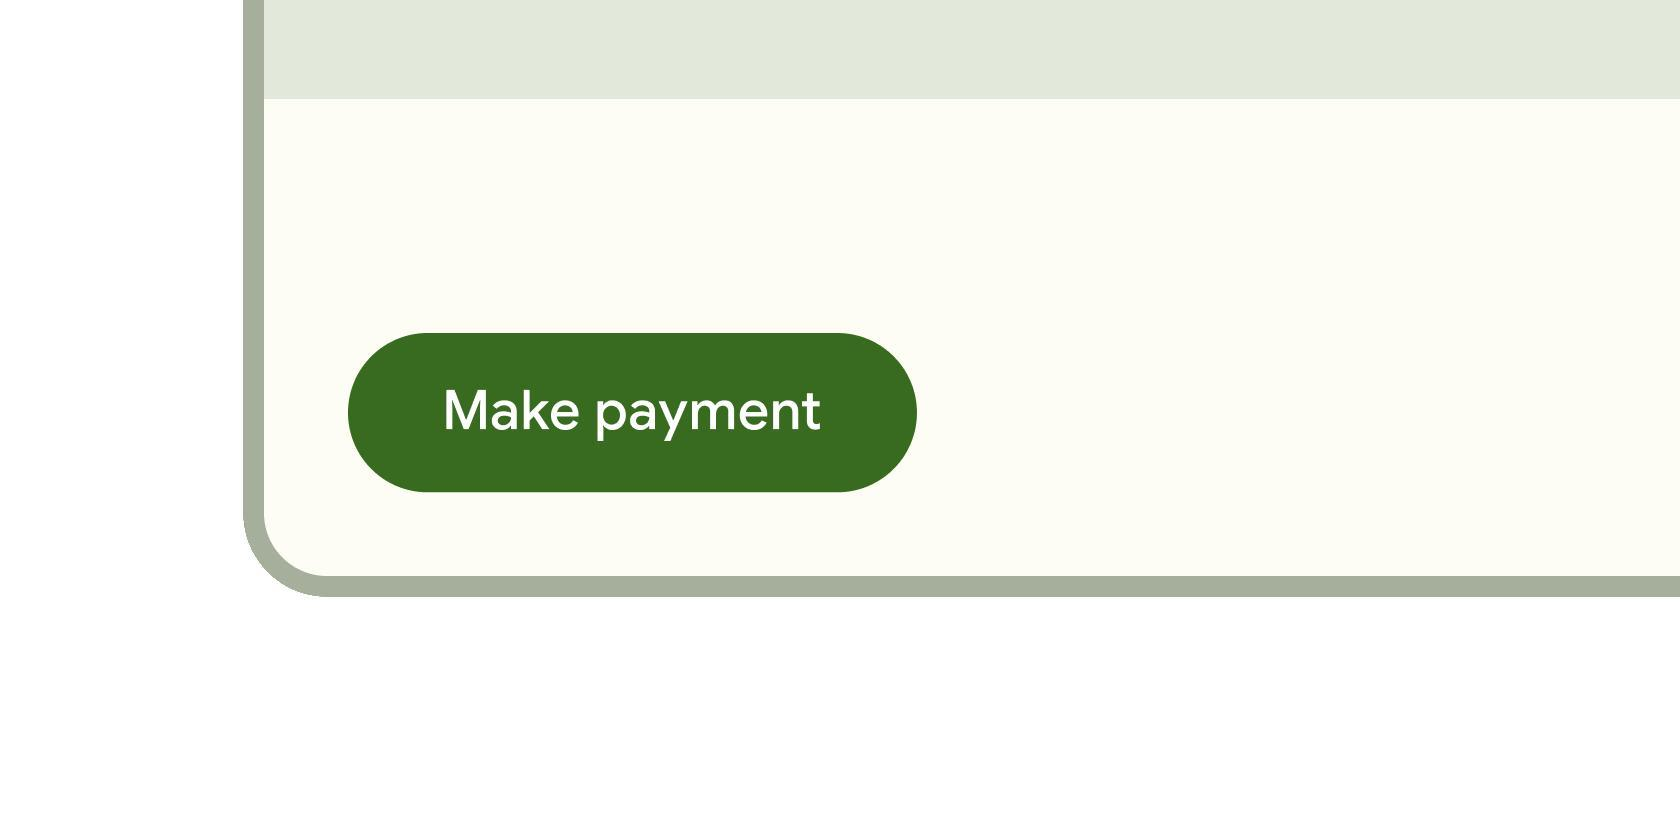button: (349, 334, 922, 495)
